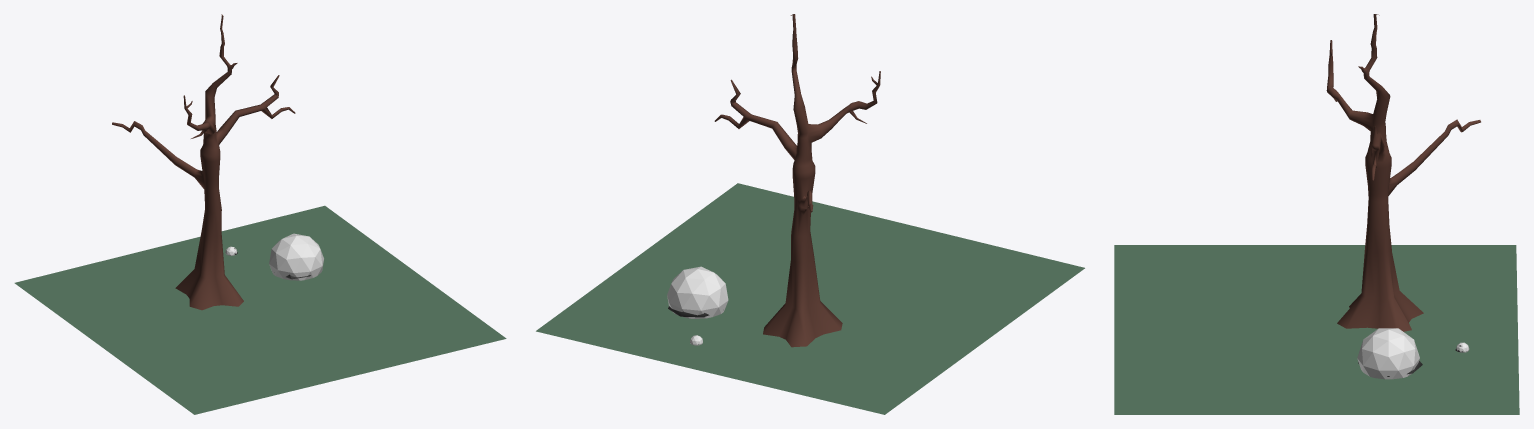
The model's file is pussel1_4.fbx.
3 views of the same model, side by side, from view 1: azimuth 30°, elevation 25°; view 2: azimuth 150°, elevation 25°; view 3: azimuth 270°, elevation 25° (orthographic). The views are drawn at different scales.
Parts seen in each view (by area): view 1: ground, tree, Spherecollide; view 2: ground, tree, Spherecollide; view 3: ground, tree, Spherecollide.
Boxes of the visible parts, x1,y1,x2,y2 form: ground: [14, 205, 506, 414]; tree: [112, 14, 295, 310]; Spherecollide: [269, 233, 323, 280]; ground: [536, 183, 1084, 414]; tree: [714, 14, 880, 347]; Spherecollide: [667, 266, 728, 318]; ground: [1114, 245, 1519, 414]; tree: [1326, 14, 1480, 331]; Spherecollide: [1357, 328, 1419, 379].
Size of what is drawn, in the model's own units: 25 by 22.55 by 25.21.
